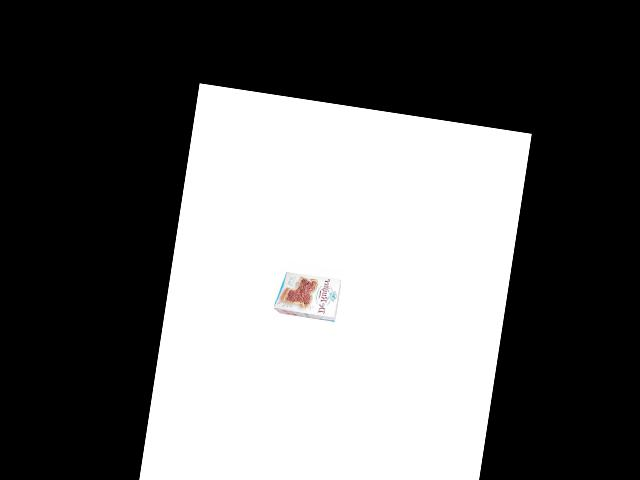chocolate: (273, 265, 346, 328)
